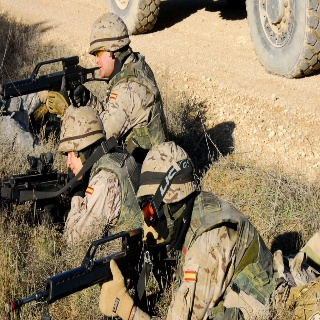rifle: (6, 228, 170, 316)
